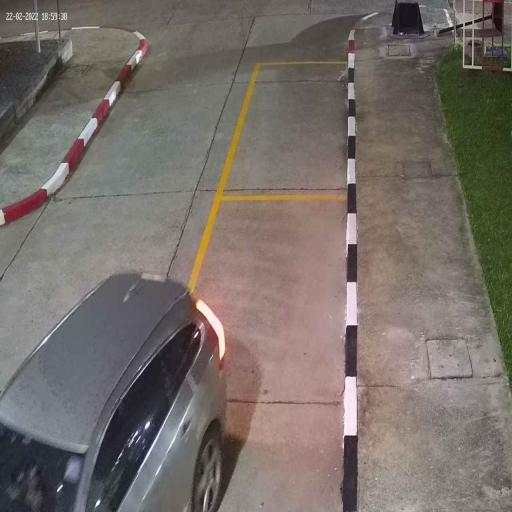car: (0, 269, 230, 512)
